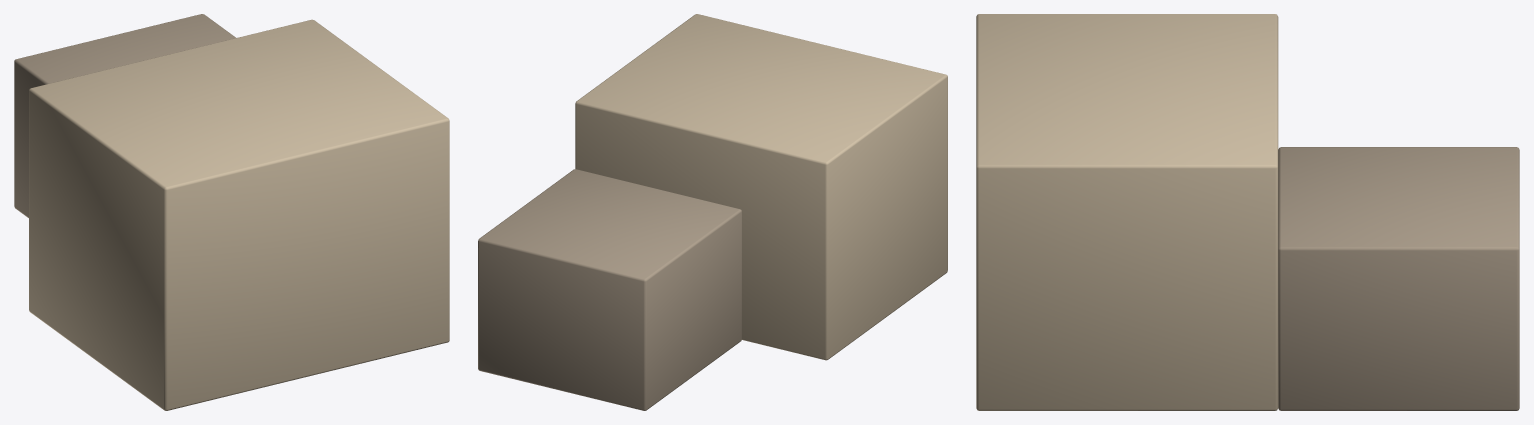
Rendered from ind_crates.glb.
The picture shows the model from 3 angles, left to right: view 1: azimuth 30°, elevation 25°; view 2: azimuth 150°, elevation 25°; view 3: azimuth 270°, elevation 25°; orthographic projection. The views are drawn at different scales.
Parts seen in each view (by area): view 1: ind_crates; view 2: ind_crates; view 3: ind_crates.
Part boxes in pixels (bbox=[...]): ind_crates: bbox=[14, 14, 449, 410]; ind_crates: bbox=[478, 14, 947, 410]; ind_crates: bbox=[976, 14, 1519, 410].
Bounding box in the file's own units: 1.2 × 0.9 × 1.8.
